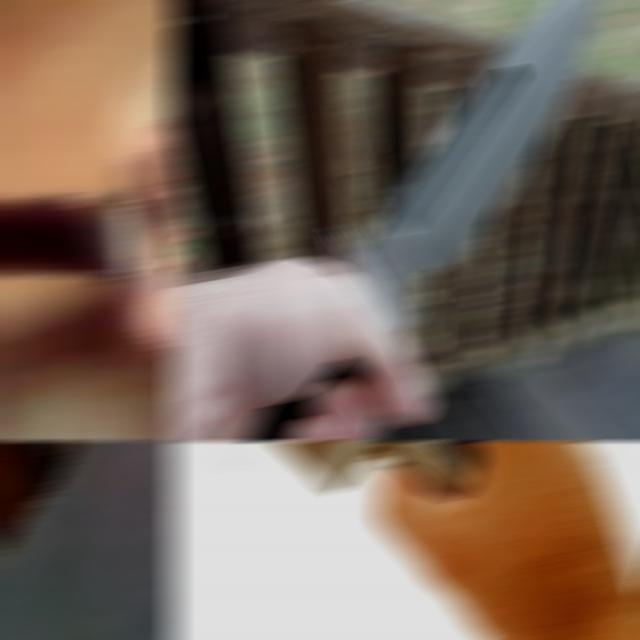Knife: (328, 0, 602, 352)
Knife_Handle: (166, 442, 640, 640), (0, 67, 178, 354), (0, 442, 178, 582)
